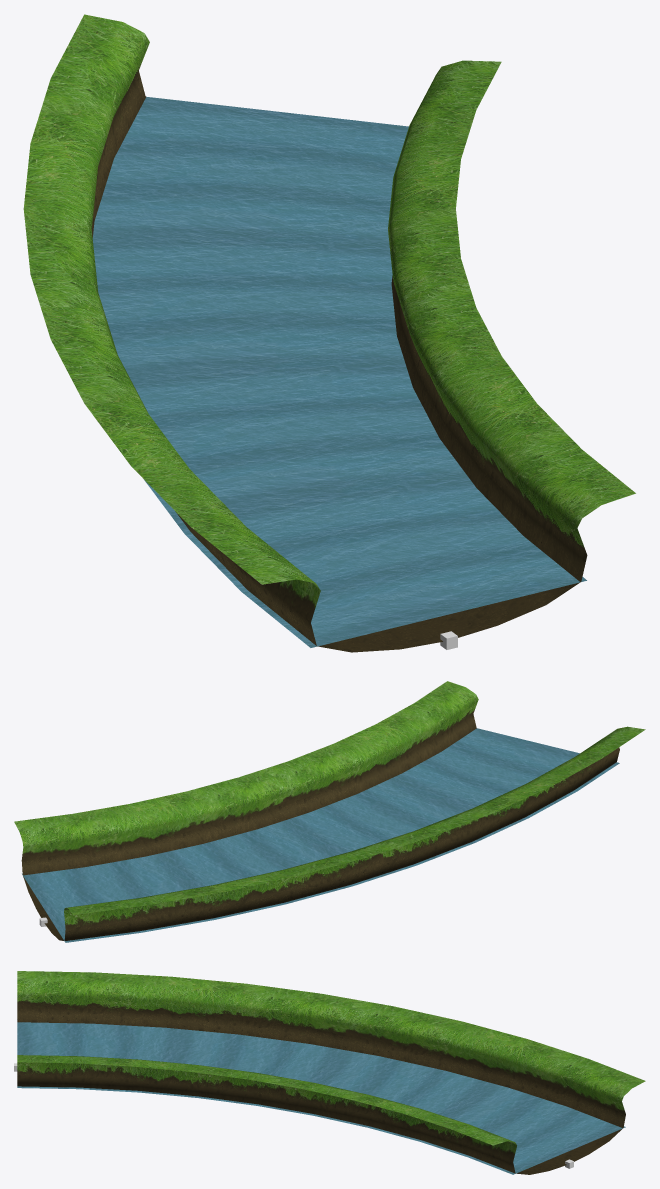
File: roadBend45.R.fbx
3 renders of one model, top to bottom at view 1: azimuth 30°, elevation 25°; view 2: azimuth 150°, elevation 25°; view 3: azimuth 270°, elevation 25°, orthographic. The views are drawn at different scales.
Parts seen in each view (by area): view 1: MESH roadBend45.R; view 2: MESH roadBend45.R; view 3: MESH roadBend45.R.
Boxes of the visible parts, x1=… form: MESH roadBend45.R: x1=23, y1=14, x2=635, y2=652; MESH roadBend45.R: x1=14, y1=681, x2=645, y2=942; MESH roadBend45.R: x1=17, y1=971, x2=645, y2=1174.
Size of what is drawn, in the model's own units: 3233 by 463 by 4944.
